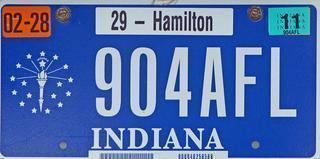placa de veiculo: (3, 2, 314, 158)
